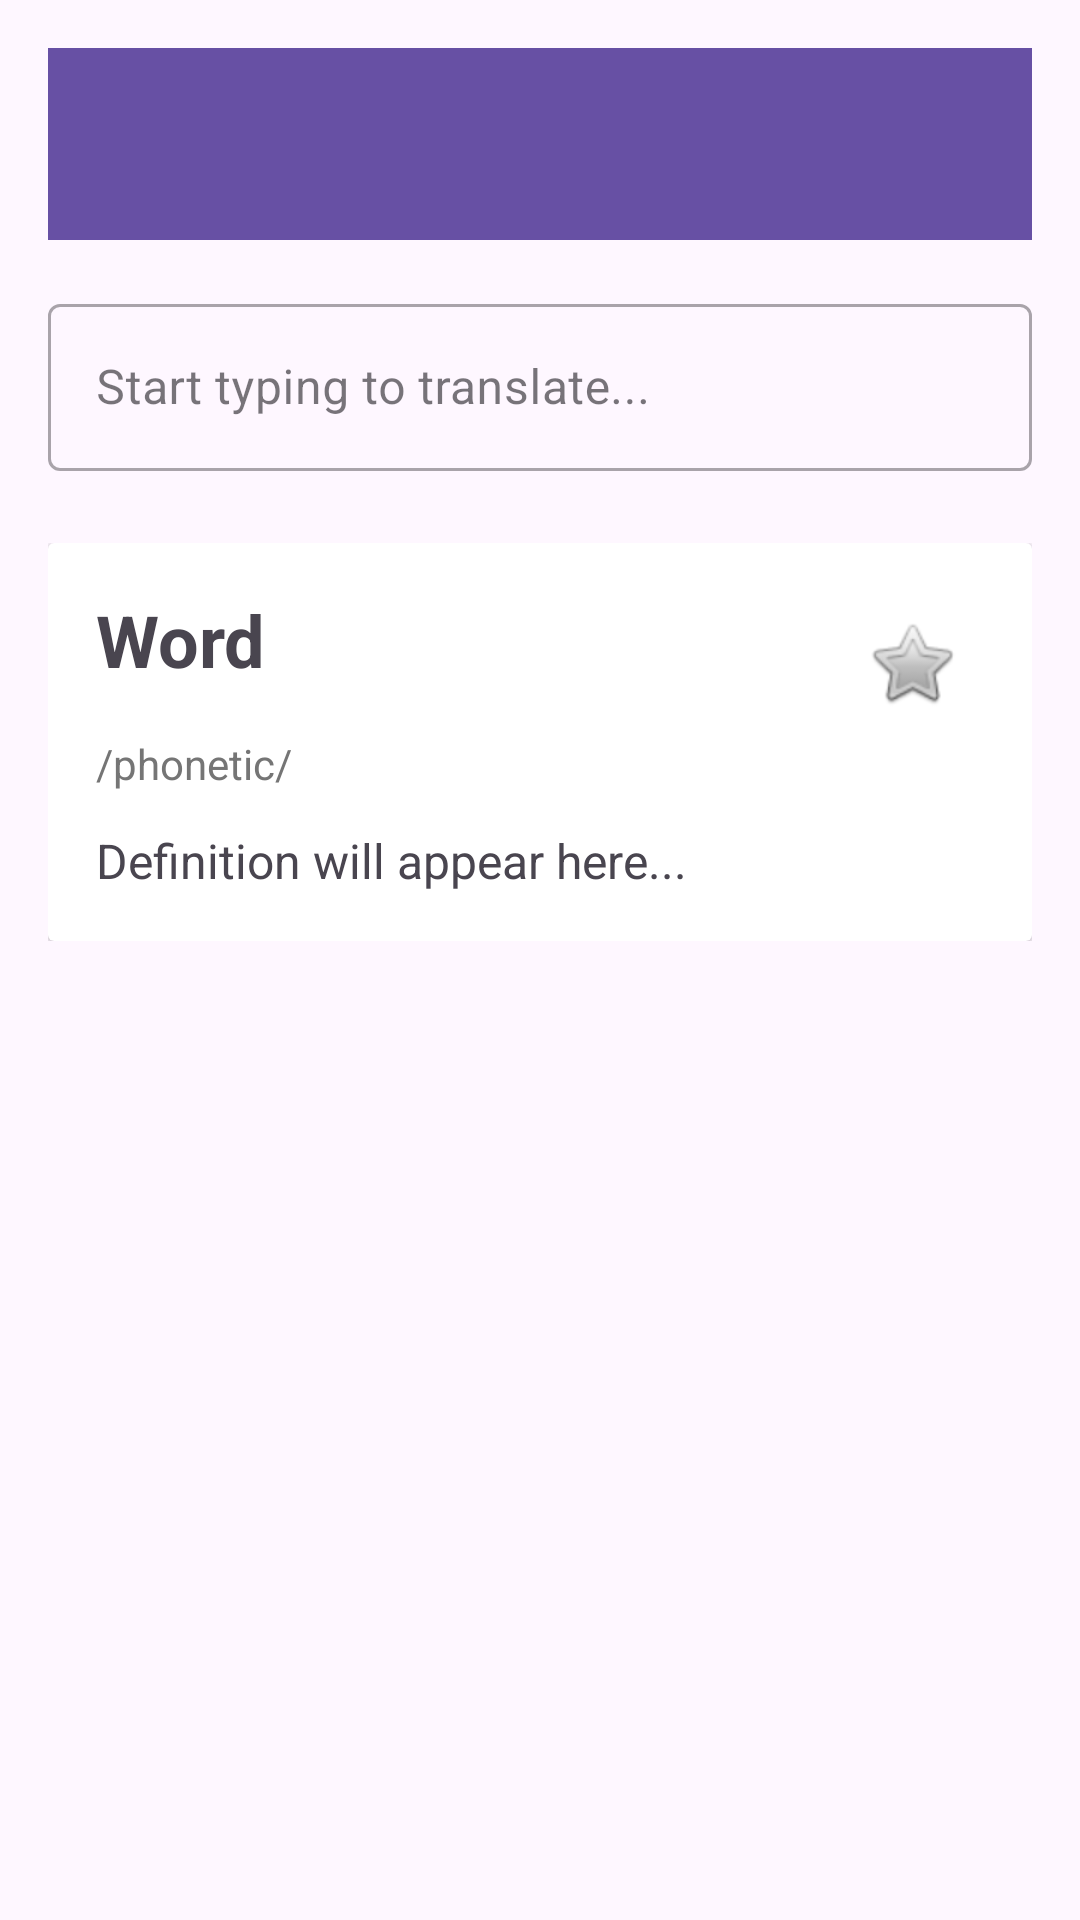

Where to tap for icons on this 1080×1920 app screen, as [x,y]:
star off: [913,664]
